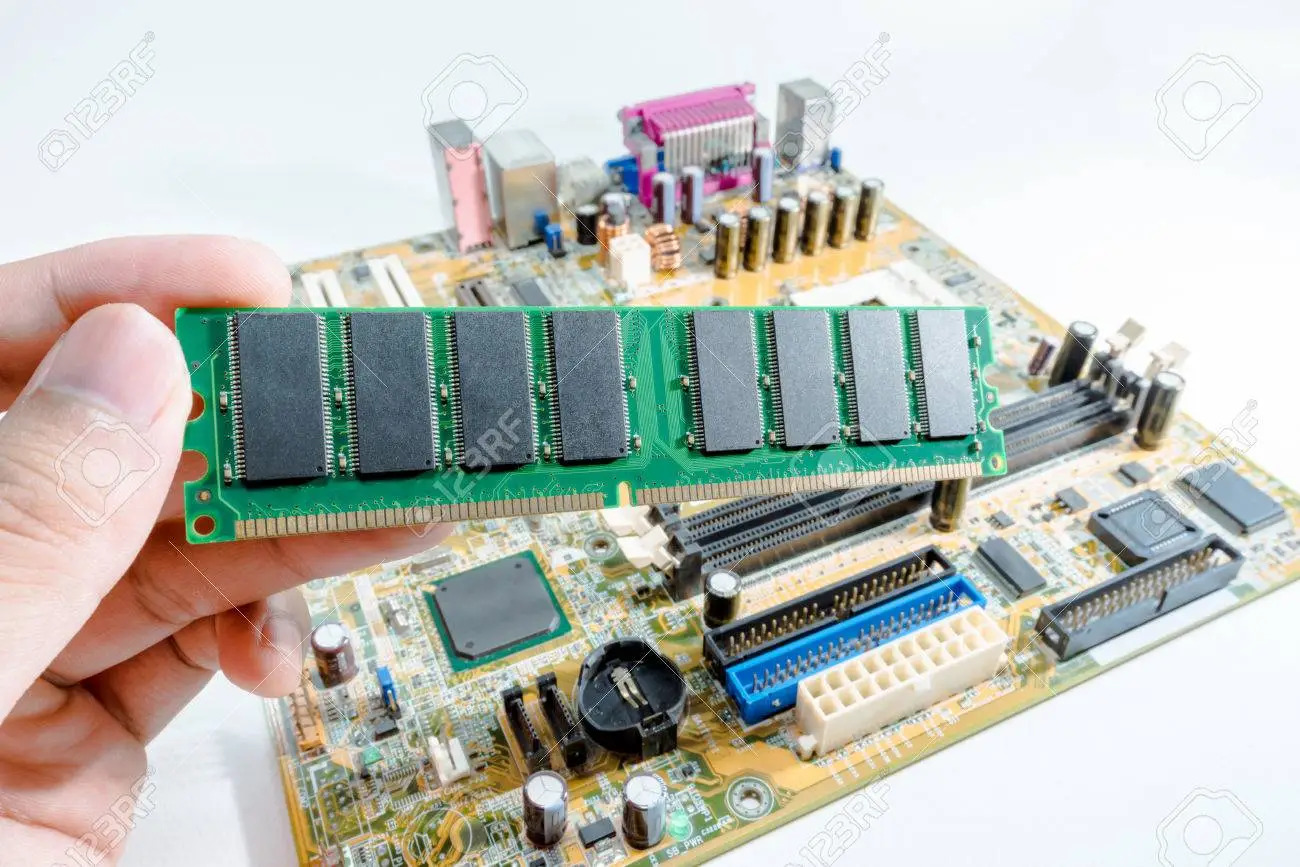ram: (173, 305, 1010, 547)
